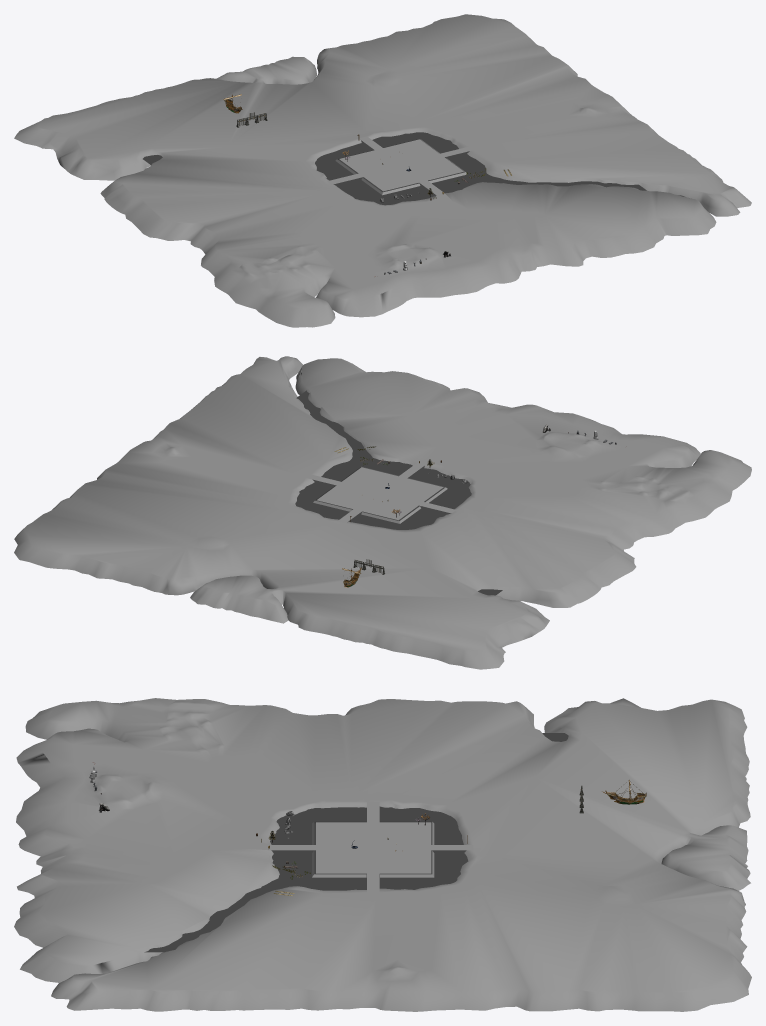
The model's file is yongzhedalu_001.FBX.
3 views of the same model, one above another, from view 1: azimuth 30°, elevation 25°; view 2: azimuth 150°, elevation 25°; view 3: azimuth 270°, elevation 25° (orthographic). The views are drawn at different scales.
Visible parts, largest first — view 1: dixing_002, dixing_001, shui_001; view 2: dixing_002, dixing_001, shui_001; view 3: dixing_002, dixing_001, shui_001.
Part boxes in pixels (left/top/right/bottom): dixing_002: left=14, top=14, right=751, bottom=327; dixing_001: left=322, top=136, right=544, bottom=217; shui_001: left=143, top=132, right=646, bottom=205; dixing_002: left=14, top=356, right=751, bottom=669; dixing_001: left=306, top=414, right=491, bottom=523; shui_001: left=295, top=390, right=502, bottom=595; dixing_002: left=14, top=698, right=751, bottom=1011; dixing_001: left=146, top=791, right=473, bottom=892; shui_001: left=144, top=733, right=568, bottom=952.
Bounding box in the file's own units: 29531 × 1546 × 29539.
